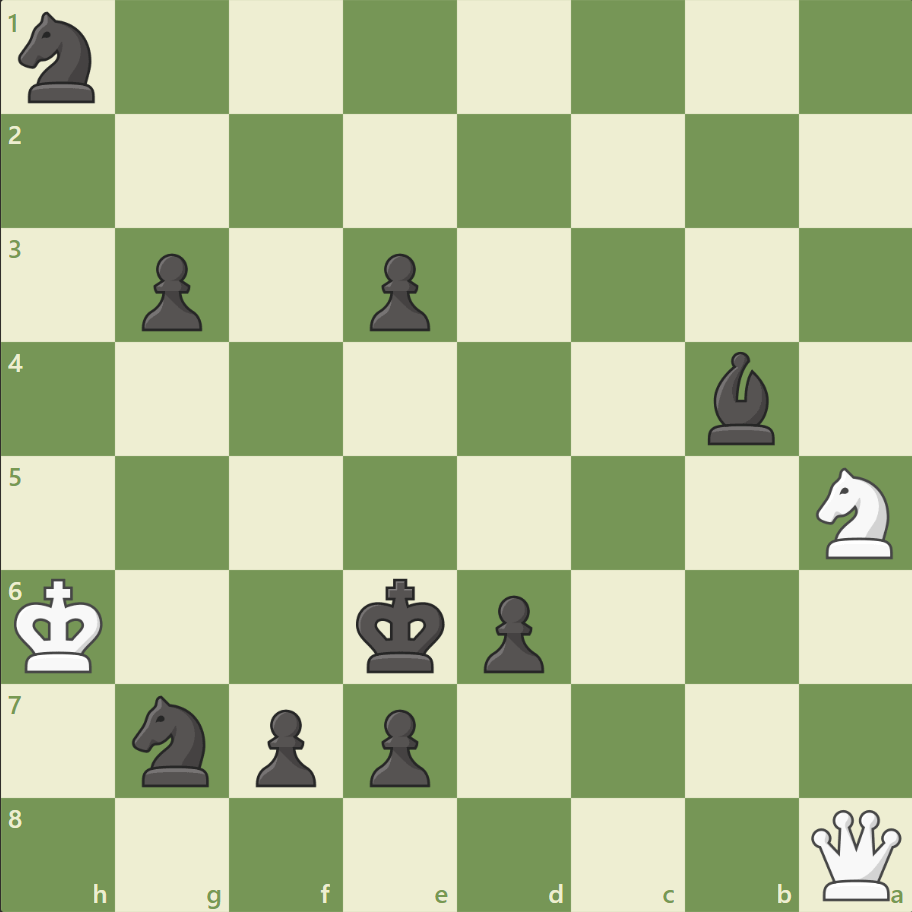K: (11, 571, 111, 679)
N: (806, 461, 903, 564)
Q: (805, 804, 904, 903)
b: (698, 347, 782, 449)
k: (351, 571, 451, 679)
n: (124, 688, 222, 791), (11, 7, 108, 110)
p: (247, 700, 322, 791), (474, 586, 549, 677), (133, 246, 208, 337), (361, 700, 435, 791), (361, 246, 435, 337)
